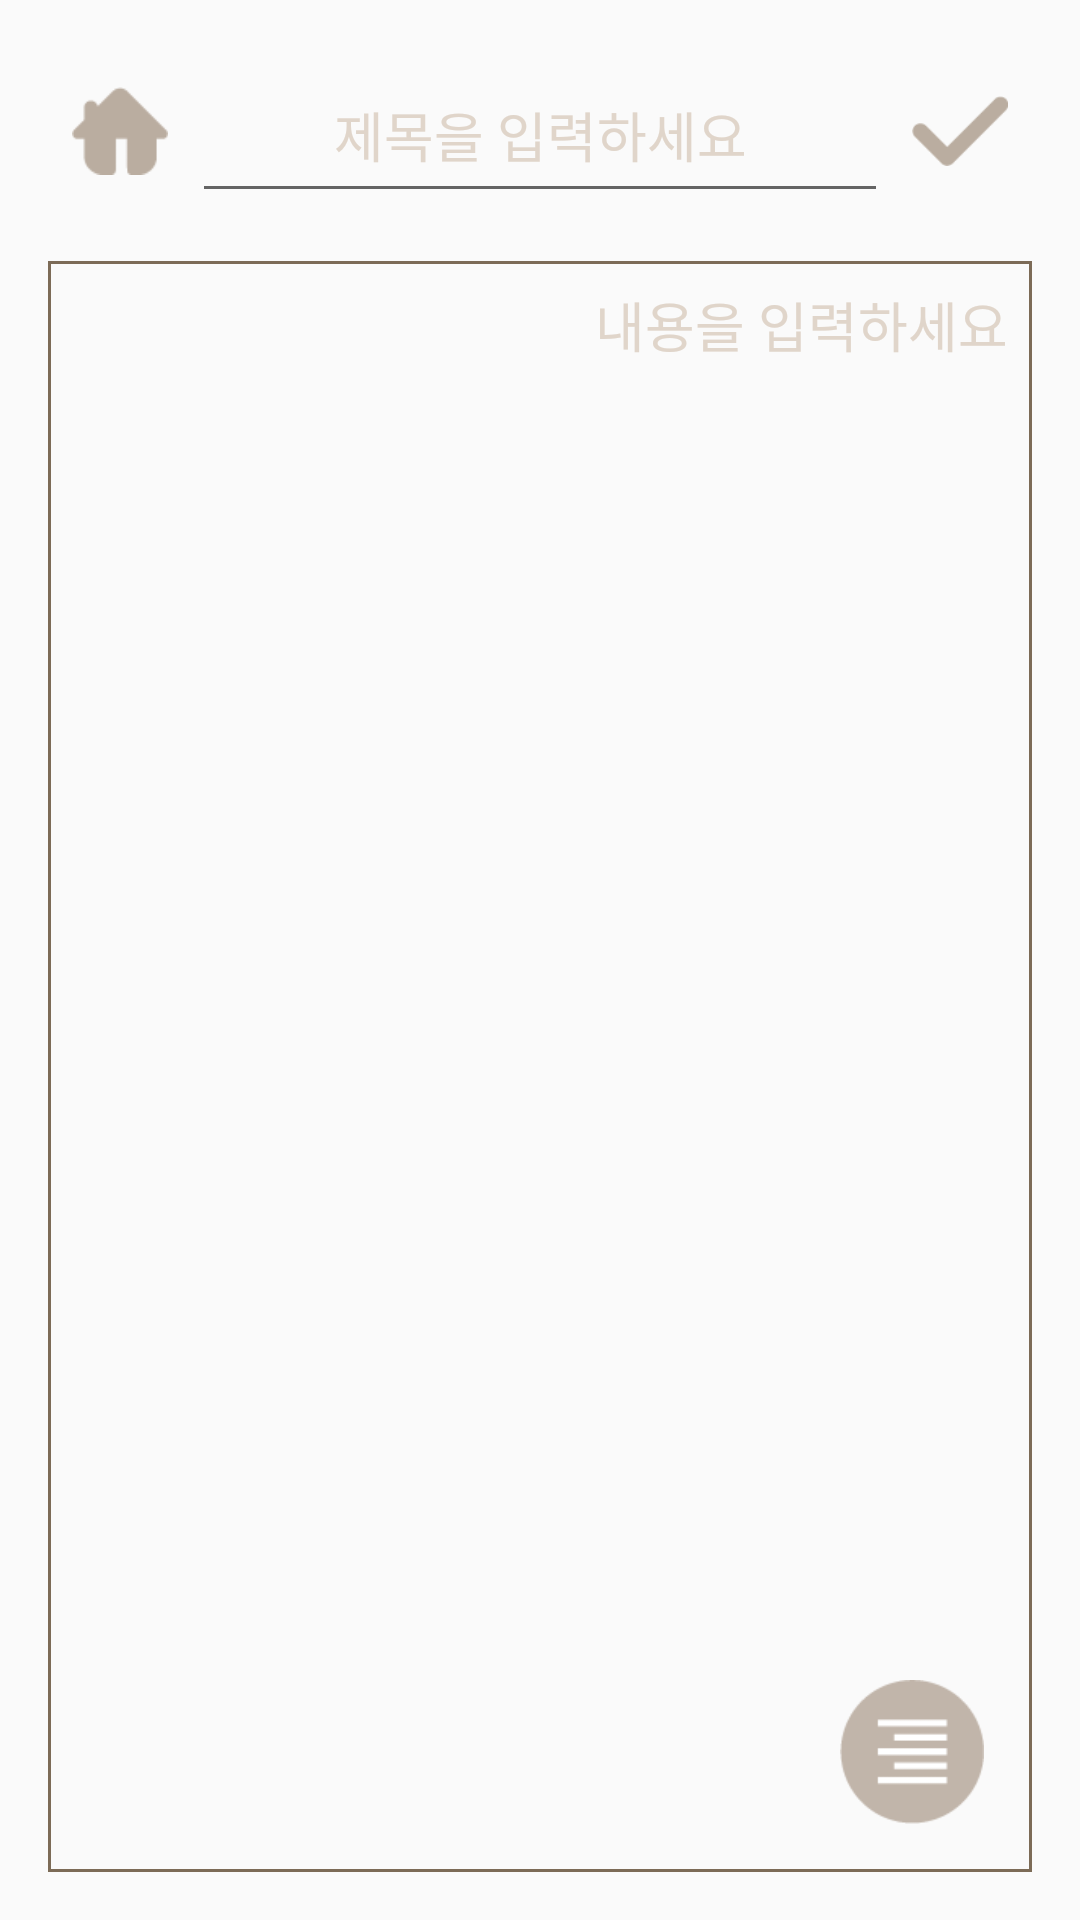

Icon click points for this 1080px×1920px phone screenshot, format (x=x, y=y):
align right: (x=912, y=1751)
